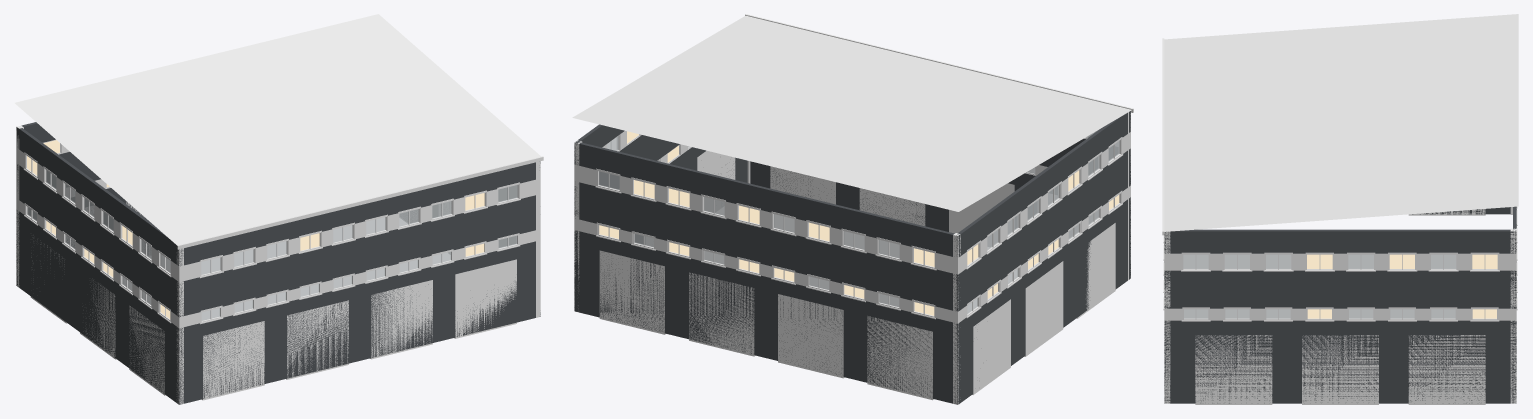
The model's file is Whsindustrial_warehouse_0000004.glb.
3 renders of one model, left to right at view 1: azimuth 30°, elevation 25°; view 2: azimuth 150°, elevation 25°; view 3: azimuth 270°, elevation 25°, orthographic. The views are drawn at different scales.
Parts seen in each view (by area): view 1: Whsindustrial_warehouse_0000004; view 2: Whsindustrial_warehouse_0000004; view 3: Whsindustrial_warehouse_0000004.
Part boxes in pixels (x1,y1,x2,y2): Whsindustrial_warehouse_0000004: [15, 14, 543, 404]; Whsindustrial_warehouse_0000004: [572, 14, 1133, 404]; Whsindustrial_warehouse_0000004: [1162, 14, 1518, 404].
Bounding box in the file's own units: 25.96 × 12.48 × 20.21.
